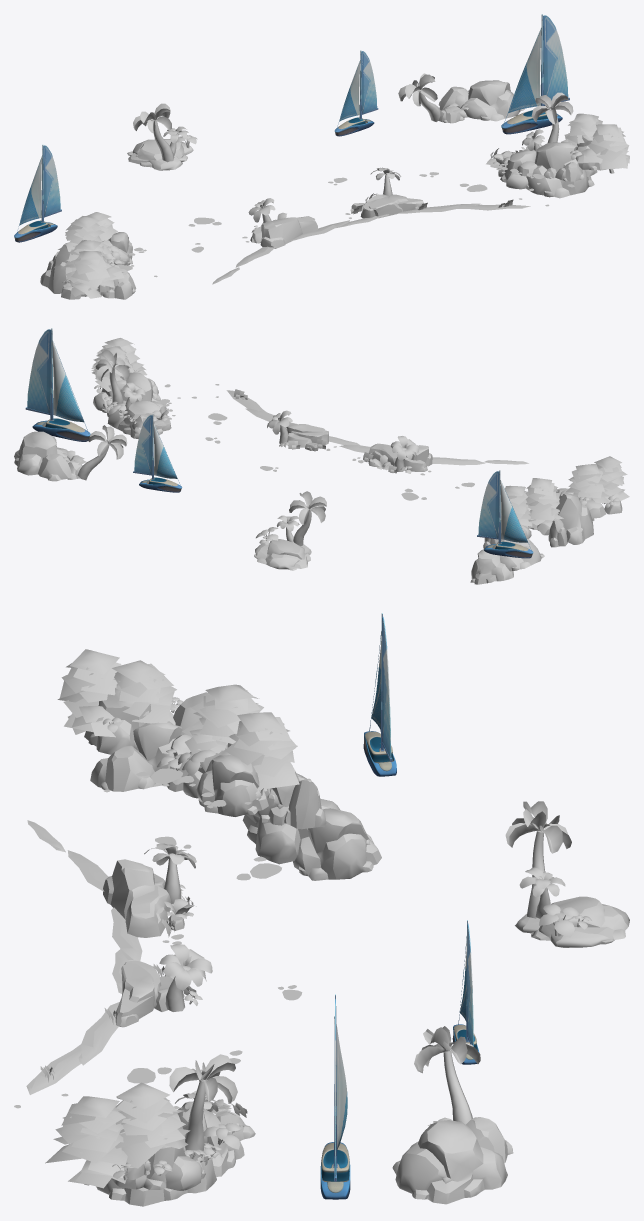
The model's file is pref_Area_Bottom_Beach_Small_beta_01_lv3.fbx.
The picture shows the model from 3 angles, top to bottom: view 1: azimuth 30°, elevation 25°; view 2: azimuth 150°, elevation 25°; view 3: azimuth 270°, elevation 25°; orthographic projection. The views are drawn at different scales.
Parts seen in each view (by area): view 1: pref_sm_beach_sailboat02_lv3 (×3), pref_sm_beach_techrock01_lv3 (×4), pref_sm_beach_techrock03_lv3 (×3), pref_sm_beach_techgtree06a_lv3 (3), pref_sm_beach_techgtree06a_lv3, pref_sm_beach_techctree01_lv3 (3), pref_sm_beach_techblockstone03_lv3, pref_sm_beach_techblockstone01_lv3, pref_sm_beach_techctree01_lv3 (2), pref_sm_beach_techctree01_lv3 (1), pref_sm_beach_techgtree06a_lv3 (2), pref_sm_beach_techgtree06a_lv3 (4) (+5 smaller); view 2: pref_sm_beach_sailboat02_lv3 (×3), pref_sm_beach_techrock01_lv3 (×4), pref_sm_beach_techrock03_lv3 (×2), pref_sm_beach_techgtree06a_lv3 (1), pref_sm_beach_techgtree06a_lv3 (2), pref_sm_beach_techrock01_lv3 (9), pref_sm_beach_techctree01_lv3 (2), pref_sm_beach_techctree01_lv3 (3), pref_sm_beach_techctree01_lv3 (1), pref_sm_beach_techgtree06a_lv3, pref_sm_beach_techgtree06a_lv3 (5), pref_sm_beach_techrock01_lv3 (7) (+8 smaller); view 3: pref_sm_beach_techrock01_lv3 (×5), pref_sm_beach_sailboat02_lv3 (×3), pref_sm_beach_techrock01_lv3 (9), pref_sm_beach_techgtree06a_lv3 (3), pref_sm_beach_techgtree06a_lv3 (4), pref_sm_beach_techgtree06a_lv3 (5), pref_sm_beach_techrock03_lv3 (×2), pref_sm_beach_techrock01_lv3 (4), pref_sm_beach_techgtree06a_lv3, pref_sm_beach_techgtree06a_lv3 (1), pref_sm_beach_techctree01_lv3 (1), pref_sm_beach_techgtree06a_lv3 (2) (+18 smaller).
Boxes of the visible parts, box(x1,y1,x2,y2) form: pref_sm_beach_sailboat02_lv3 (×3): box(14, 14, 569, 242); pref_sm_beach_techrock01_lv3 (×4): box(127, 80, 594, 198); pref_sm_beach_techrock03_lv3 (×3): box(40, 86, 468, 299); pref_sm_beach_techgtree06a_lv3 (3): box(587, 124, 629, 173); pref_sm_beach_techgtree06a_lv3: box(65, 251, 115, 288); pref_sm_beach_techctree01_lv3 (3): box(133, 103, 174, 162); pref_sm_beach_techblockstone03_lv3: box(260, 218, 302, 248); pref_sm_beach_techblockstone01_lv3: box(360, 194, 423, 218); pref_sm_beach_techctree01_lv3 (2): box(398, 73, 440, 121); pref_sm_beach_techctree01_lv3 (1): box(531, 92, 573, 142); pref_sm_beach_techgtree06a_lv3 (2): box(58, 216, 104, 249); pref_sm_beach_techgtree06a_lv3 (4): box(564, 113, 602, 147); pref_sm_beach_sailboat02_lv3 (×3): box(25, 328, 533, 558); pref_sm_beach_techrock01_lv3 (×4): box(14, 372, 311, 570); pref_sm_beach_techrock03_lv3 (×2): box(38, 454, 593, 544); pref_sm_beach_techgtree06a_lv3 (1): box(565, 464, 612, 503); pref_sm_beach_techgtree06a_lv3 (2): box(525, 478, 559, 520); pref_sm_beach_techrock01_lv3 (9): box(470, 549, 513, 584); pref_sm_beach_techctree01_lv3 (2): box(77, 425, 127, 480); pref_sm_beach_techctree01_lv3 (3): box(289, 491, 326, 545); pref_sm_beach_techctree01_lv3 (1): box(95, 350, 129, 406); pref_sm_beach_techgtree06a_lv3: box(594, 456, 627, 503); pref_sm_beach_techgtree06a_lv3 (5): box(500, 485, 533, 526); pref_sm_beach_techrock01_lv3 (7): box(497, 539, 544, 571); pref_sm_beach_techrock01_lv3 (×5): box(96, 721, 629, 1206); pref_sm_beach_sailboat02_lv3 (×3): box(320, 613, 479, 1199); pref_sm_beach_techrock01_lv3 (9): box(293, 808, 381, 880); pref_sm_beach_techgtree06a_lv3 (3): box(45, 1096, 127, 1185); pref_sm_beach_techgtree06a_lv3 (4): box(115, 1082, 190, 1175); pref_sm_beach_techgtree06a_lv3 (5): box(224, 712, 299, 789); pref_sm_beach_techrock03_lv3 (×2): box(90, 745, 513, 1163); pref_sm_beach_techrock01_lv3 (4): box(196, 755, 268, 816); pref_sm_beach_techgtree06a_lv3: box(57, 649, 121, 732); pref_sm_beach_techgtree06a_lv3 (1): box(112, 660, 176, 724); pref_sm_beach_techctree01_lv3 (1): box(169, 1054, 237, 1160); pref_sm_beach_techgtree06a_lv3 (2): box(182, 684, 263, 747).
Bounding box in the file's own units: 55.83 × 14.51 × 29.64.
